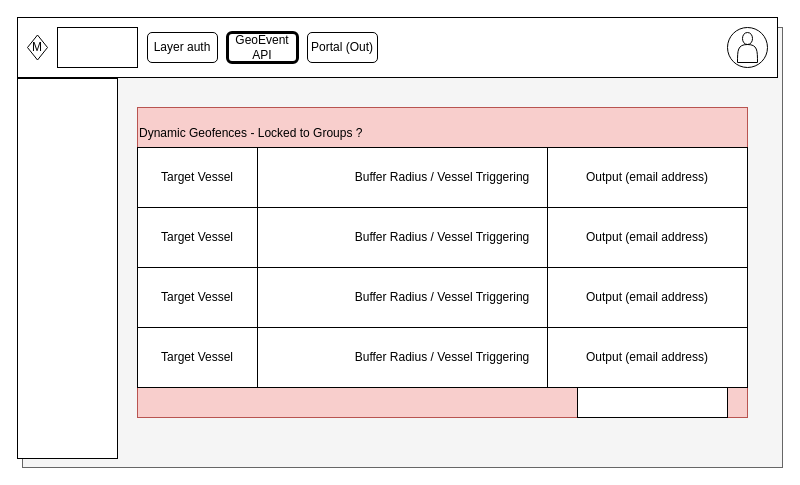
Some shapes in this 800 by 485 pixel diagram are drawn without their labels. The centre of each missing label's shape, as x and y in pixels:
Create New Dynamic GeoFernce: (652,402)
Static GeoFences Dyamic GeoFences: (67,268)
Title: (97,47)
